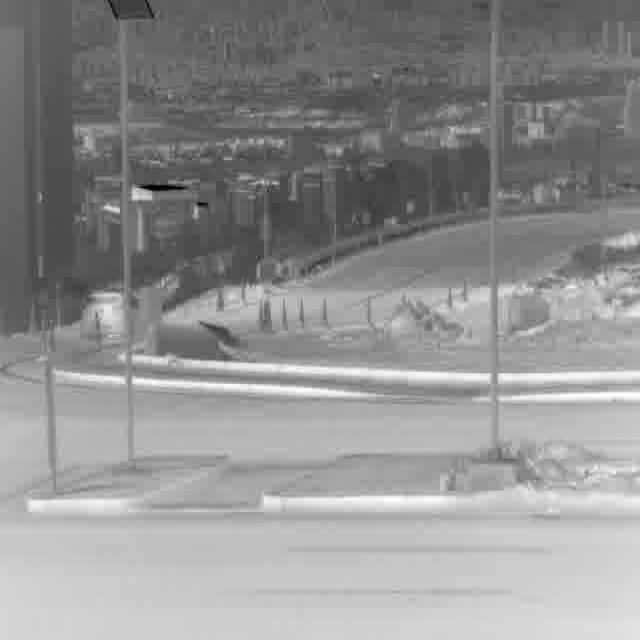Car: (81, 290, 148, 346)
